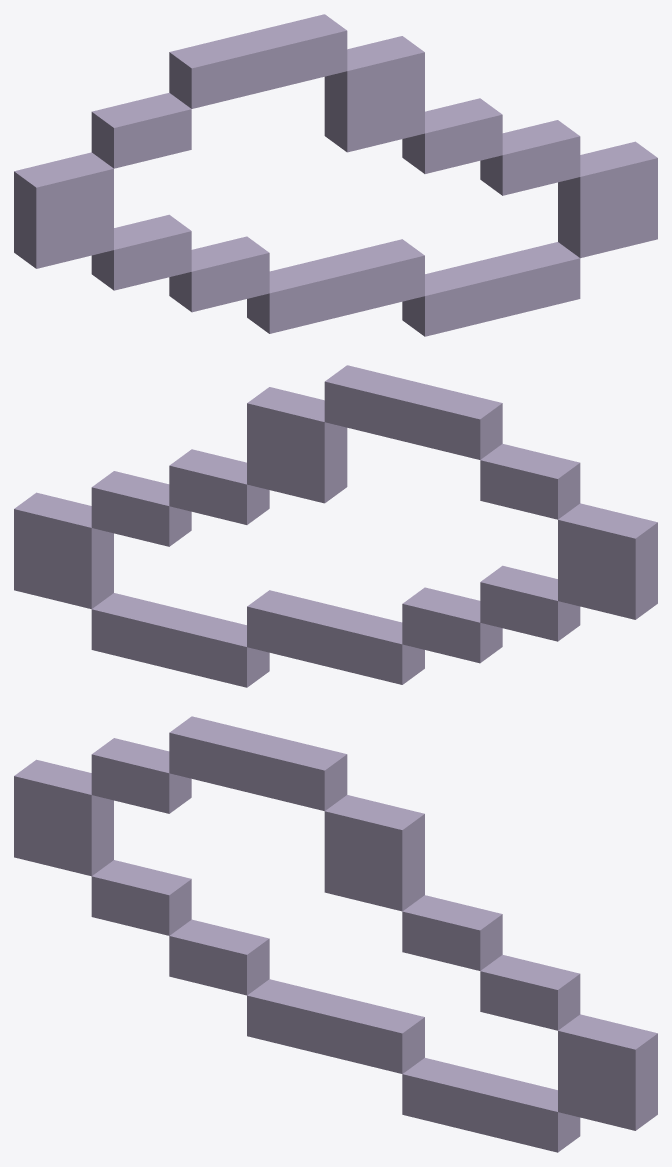
File: Necklace-Grey.vox.obj
3 renders of one model, top to bottom at view 1: azimuth 30°, elevation 25°; view 2: azimuth 150°, elevation 25°; view 3: azimuth 330°, elevation 25°, orthographic.
Bounding box in the file's own units: 1.6 × 0.8 × 0.1.
Materials: 1 (1 with a texture image).
